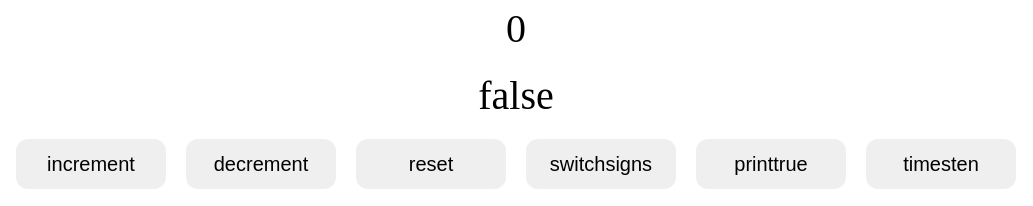
Test: Counter › True or false Should change when printtrue button is clicked
Expected: the text with test id "trueorfalse" reads "false", [478,73,554,118]
Click the button "printtrue".
click(771, 164)  # box [696,139,846,189]
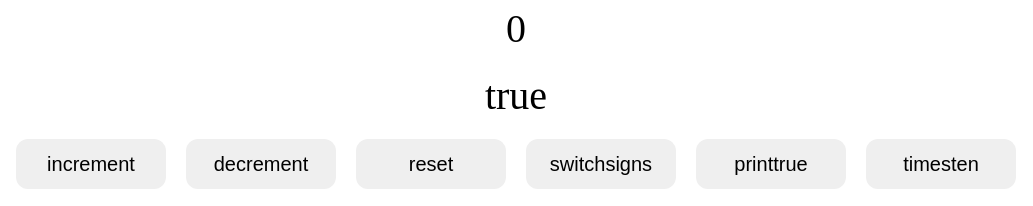
Expected: the text with test id "trueorfalse" reads "true", [485,73,547,118]
